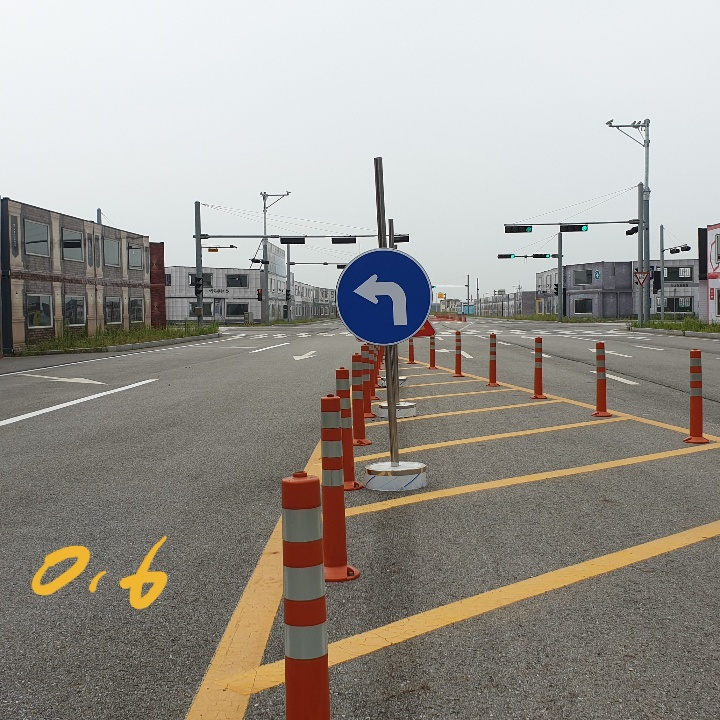left: (348, 269, 415, 330)
